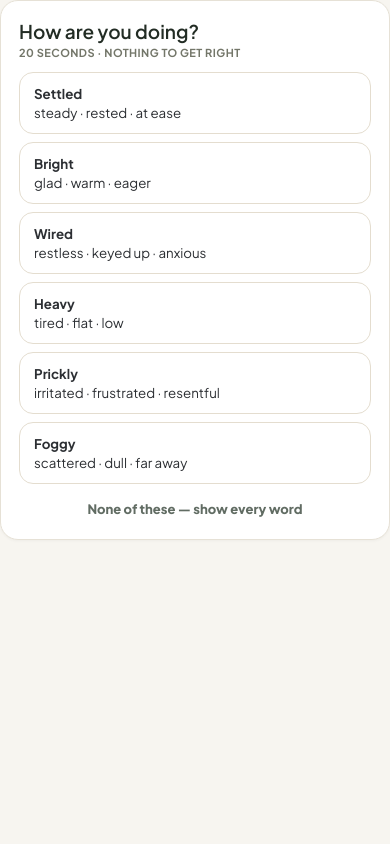
StepFeelingLog — one word, 20 seconds › after saving, shows the acknowledgement and no chart, no history, no streak
Click the text "Settled": (58, 94) [34, 85, 82, 102]
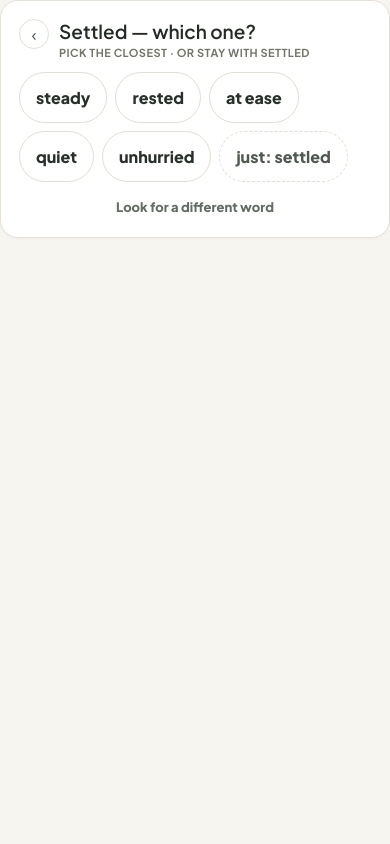
Click the button "steady": (63, 98) [19, 72, 108, 123]
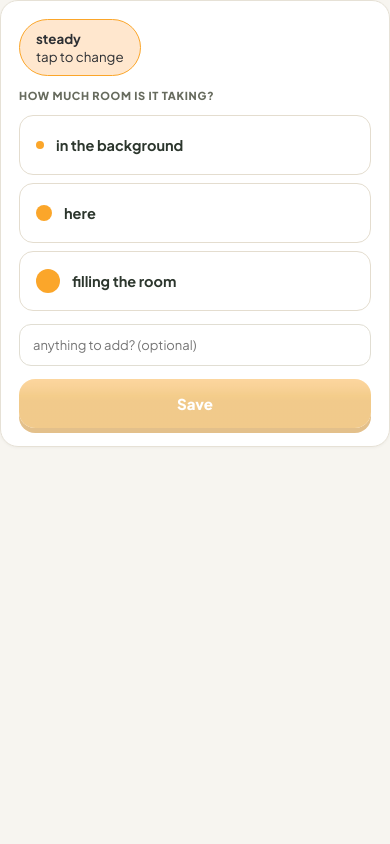
Click the button "here": (80, 213) [19, 183, 371, 243]
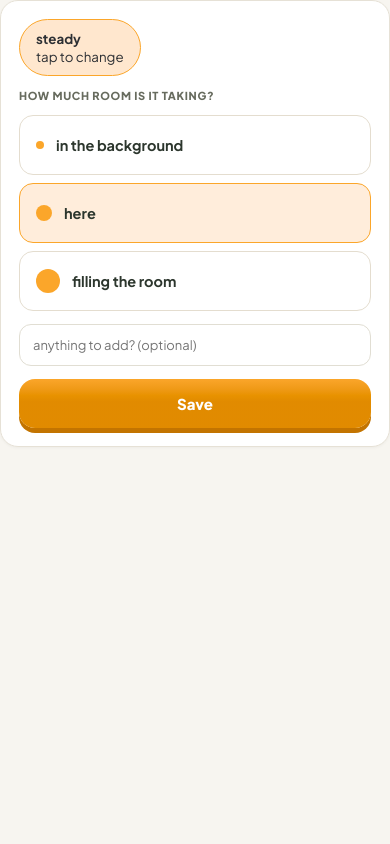
Click the button "Save": (195, 404) [19, 379, 371, 428]
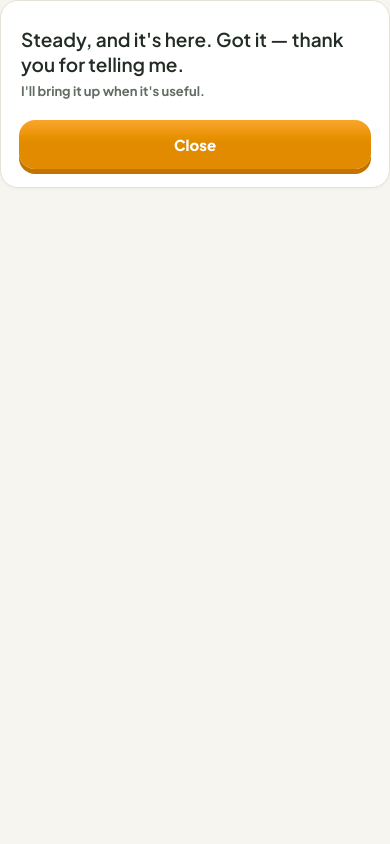
expect the text "Steady, and it's here. Got it — thank you for telling me." is shown: met, box [21, 27, 369, 76]
expect the button "Close" is shown: met, box [19, 120, 371, 169]
